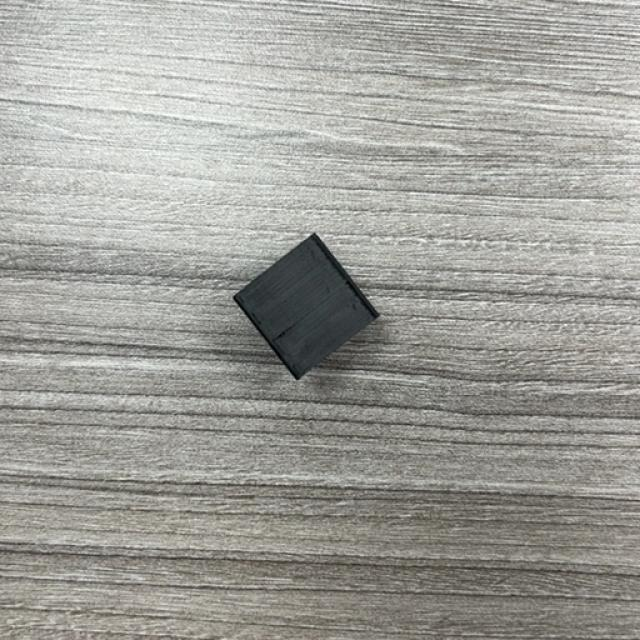Negro: (232, 234, 380, 381)
